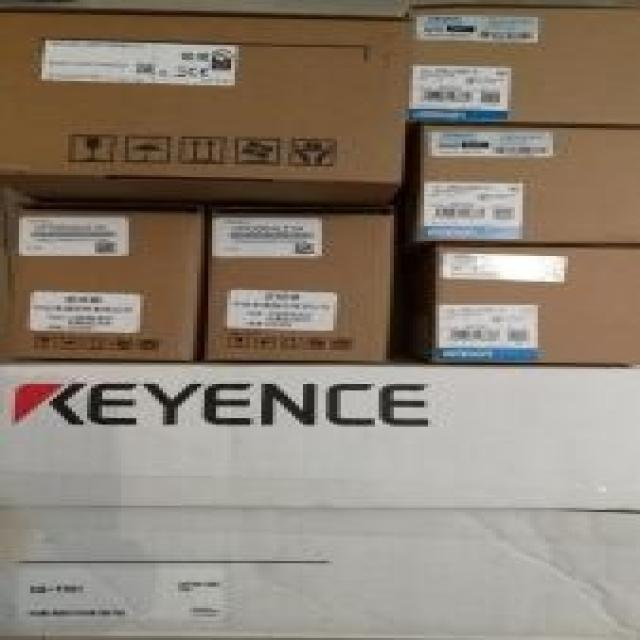box: (0, 4, 417, 205), (401, 6, 640, 128), (11, 207, 204, 358), (204, 209, 390, 361), (409, 128, 640, 247), (432, 245, 640, 365)
